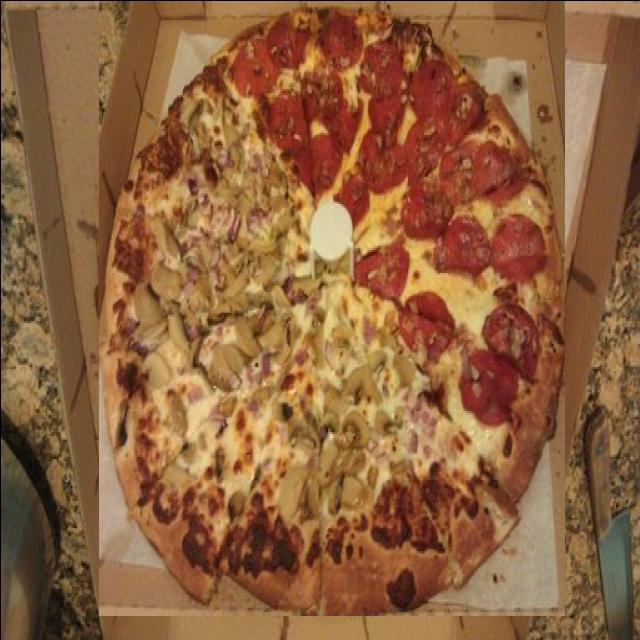pepperoni: (136, 410, 223, 474), (350, 419, 396, 526), (146, 192, 204, 268), (125, 239, 181, 313), (209, 256, 264, 325), (116, 336, 172, 402), (173, 342, 229, 400), (252, 318, 309, 372), (382, 519, 432, 580), (256, 423, 303, 485), (210, 378, 261, 433), (218, 429, 258, 498), (209, 496, 252, 558), (178, 469, 217, 532), (353, 548, 396, 604), (260, 520, 301, 576), (320, 495, 362, 549), (300, 547, 342, 600), (292, 388, 330, 445), (298, 464, 337, 516), (323, 424, 352, 480), (259, 483, 294, 520)
pizza: (97, 0, 564, 615)
